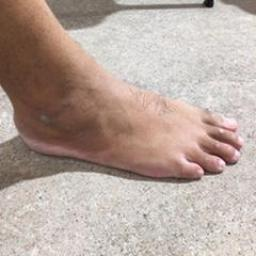Lateral View -Right Foot-: (6, 38, 246, 200)
